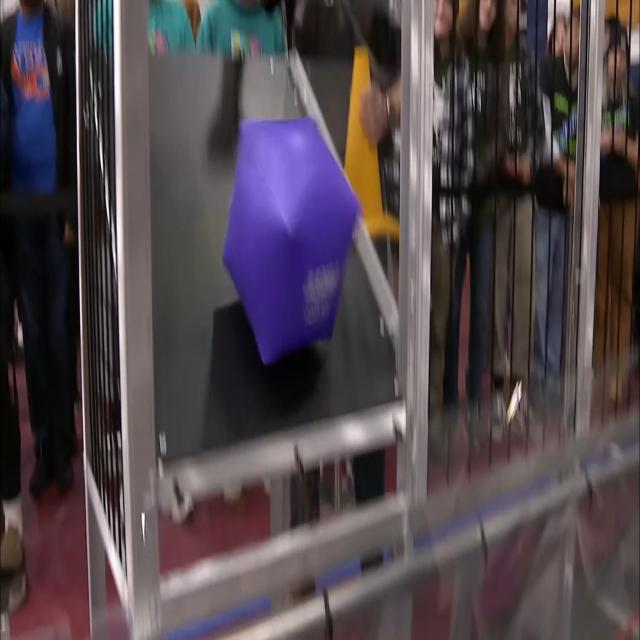frc_cone: (330, 48, 398, 234)
frc_cube: (219, 115, 360, 362)
